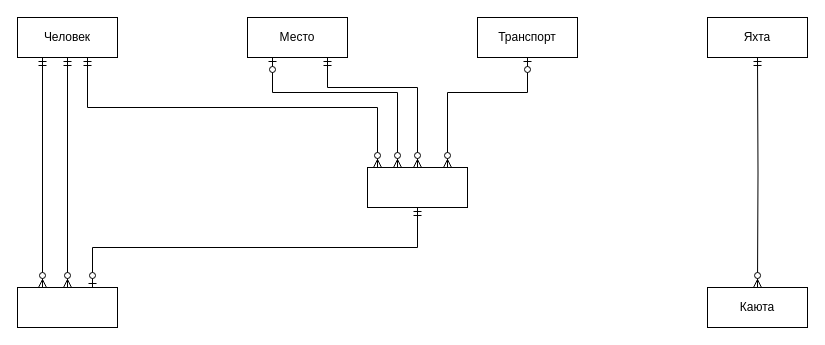
This 825x345 diagram has some shape labels left out. Each missing label, with the centre of its shape:
Оплата: pixel 67 307
Перемещение: pixel 417 187
